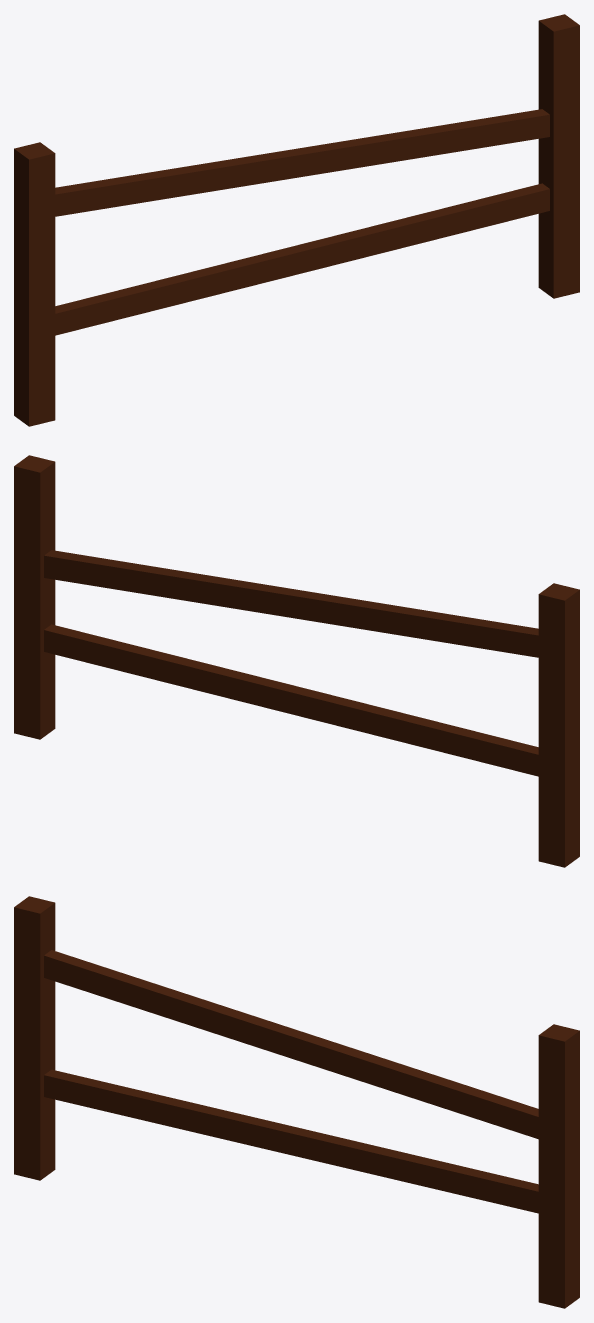
The model's file is FenceForGame.fbx.
3 renders of one model, top to bottom at view 1: azimuth 30°, elevation 25°; view 2: azimuth 150°, elevation 25°; view 3: azimuth 330°, elevation 25°, orthographic.
Visible parts, largest first — view 1: Cube; view 2: Cube; view 3: Cube.
Boxes of the visible parts, x1,y1,x2,y2 form: Cube: (14, 14, 579, 426); Cube: (14, 455, 579, 867); Cube: (14, 896, 579, 1308).
Size of the model in its own units: 4200 by 1946 by 200.
